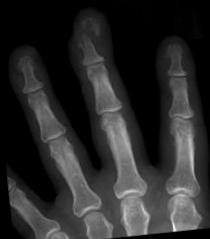fracture: (78, 23, 96, 41)
